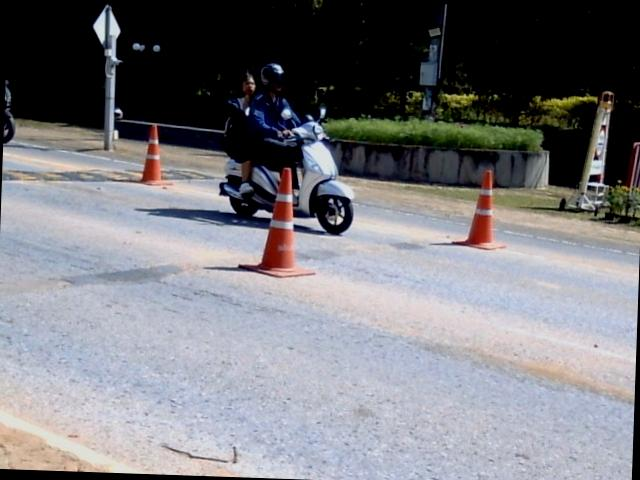helmet: (260, 59, 290, 91)
motor: (287, 115, 354, 232), (220, 158, 280, 216)
no-helmet: (232, 70, 255, 95)
person: (246, 63, 300, 193), (222, 73, 255, 194)
